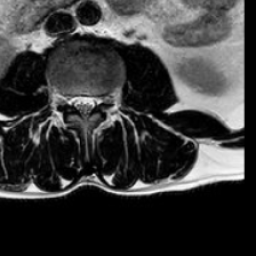CCS_normal: (79, 84, 88, 129)
LFS_normal: (98, 81, 108, 114)
LLS_normal: (88, 84, 98, 119)
RFS_normal: (60, 82, 70, 115)
RLS_normal: (70, 85, 79, 121)
